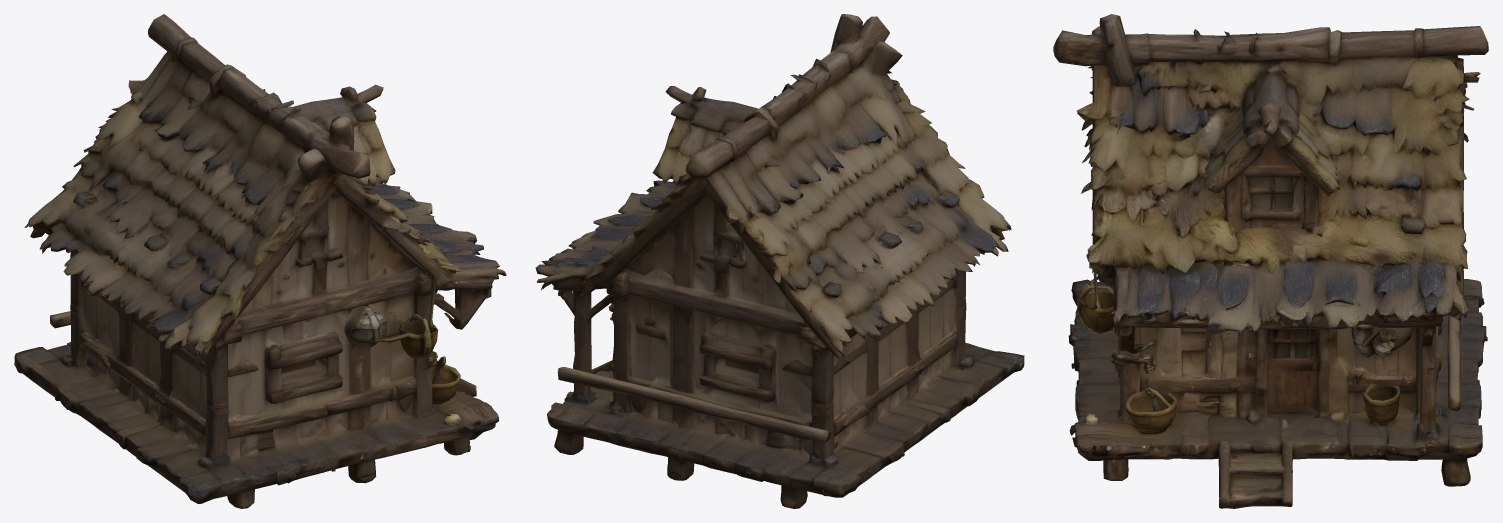
The model's file is townFisherHouse.glb.
3 renders of one model, left to right at view 1: azimuth 30°, elevation 25°; view 2: azimuth 150°, elevation 25°; view 3: azimuth 270°, elevation 25°, orthographic. The views are drawn at different scales.
Parts seen in each view (by area): view 1: pb_node; view 2: pb_node; view 3: pb_node.
Boxes of the visible parts, left/top/right/bottom form: pb_node: left=14, top=14, right=506, bottom=508; pb_node: left=535, top=14, right=1024, bottom=508; pb_node: left=1053, top=14, right=1488, bottom=508.
Size of the model in its own units: 1 by 0.9688 by 0.9605.
1 material, 1 textured.
